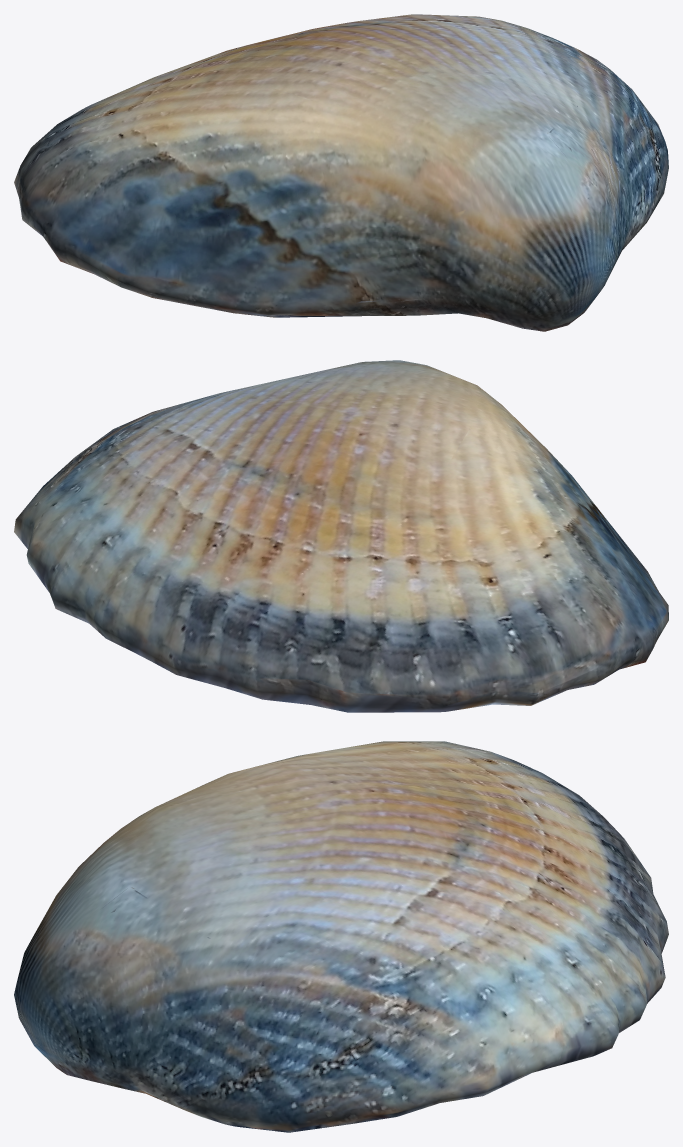
The model's file is Cockle7.fbx.
3 renders of one model, top to bottom at view 1: azimuth 30°, elevation 25°; view 2: azimuth 150°, elevation 25°; view 3: azimuth 270°, elevation 25°, orthographic. The views are drawn at different scales.
Parts seen in each view (by area): view 1: Cockel7_LOD0; view 2: Cockel7_LOD0; view 3: Cockel7_LOD0.
Part boxes in pixels (bbox=[...]): Cockel7_LOD0: bbox=[14, 14, 668, 331]; Cockel7_LOD0: bbox=[14, 360, 668, 712]; Cockel7_LOD0: bbox=[14, 741, 668, 1132].
Size of what is drawn, in the model's own units: 24.58 by 8.14 by 21.04.
